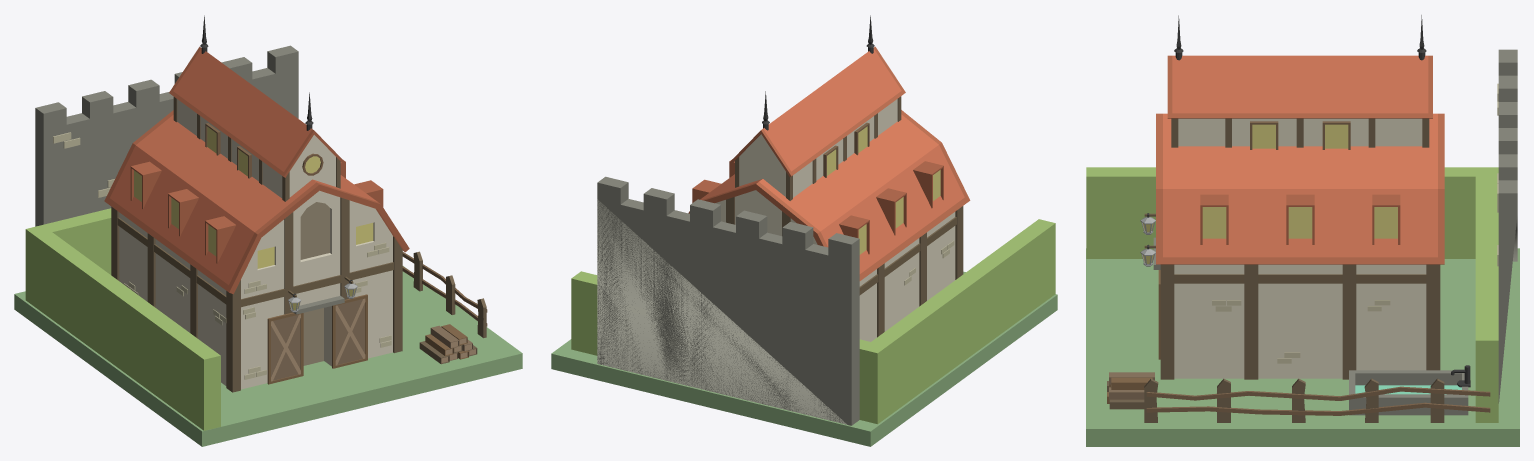
Rendered from House_2.fbx.
The picture shows the model from 3 angles, left to right: view 1: azimuth 30°, elevation 25°; view 2: azimuth 150°, elevation 25°; view 3: azimuth 270°, elevation 25°; orthographic projection. The views are drawn at different scales.
Visible parts, largest first — view 1: House_2; view 2: House_2; view 3: House_2.
Part boxes in pixels (x1,y1,x2,y2): House_2: (14, 15, 522, 446); House_2: (551, 15, 1057, 446); House_2: (1086, 15, 1519, 446).
Size of the model in its own units: 175 by 152 by 178.
1 material, 1 textured.
